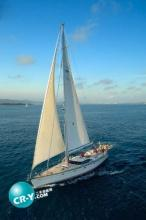fanchuan: (29, 21, 113, 193)
